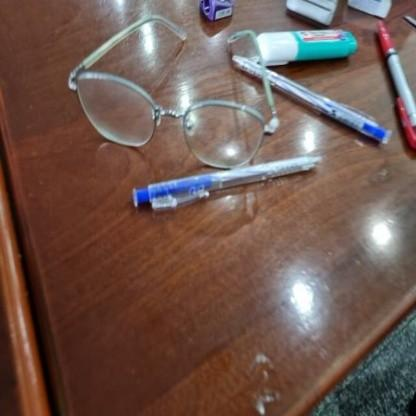not trash: (66, 14, 281, 169), (231, 51, 386, 149), (134, 158, 322, 212), (377, 19, 416, 160), (254, 24, 362, 66), (282, 0, 341, 24), (197, 0, 238, 21)
